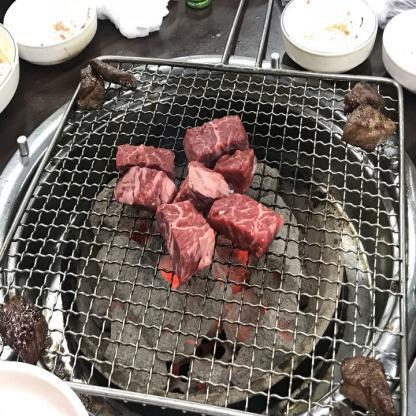beef: (110, 113, 286, 282)
